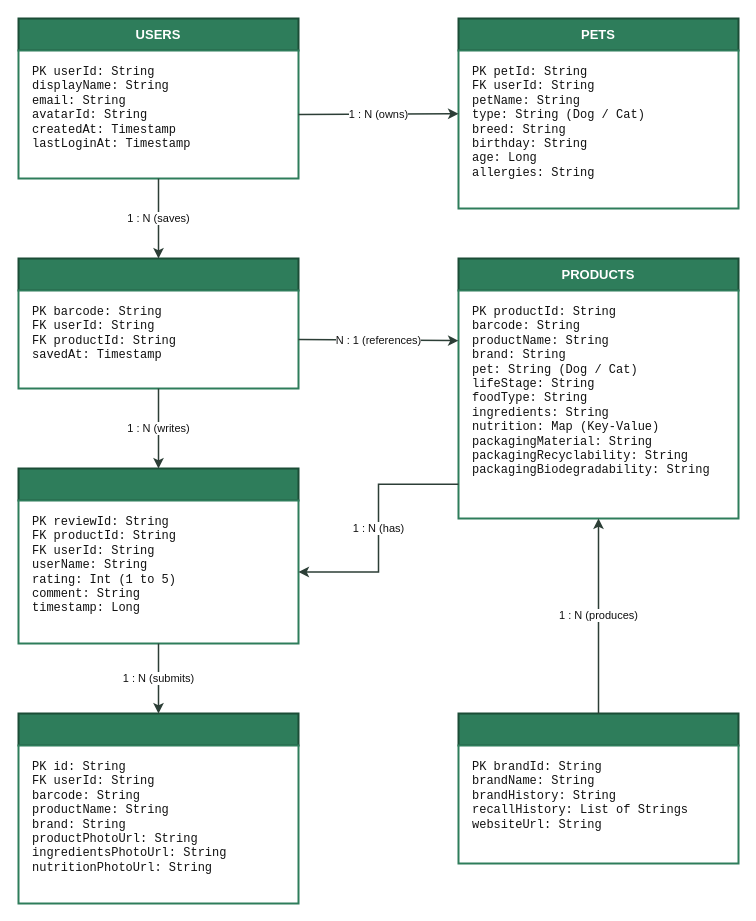
Image size: 756x921. Some labels were removed from this diagram. The shapes that lost their labels are listed below. From the top down, each one's box as (x1, y1, x2, y2) in pixels, then its label:
(17, 257, 299, 291): SAVED_PRODUCTS
(17, 467, 299, 501): REVIEWS
(17, 712, 299, 746): CONTRIBUTIONS
(457, 712, 739, 746): BRANDS
